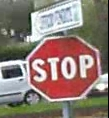stop: (25, 35, 100, 99)
